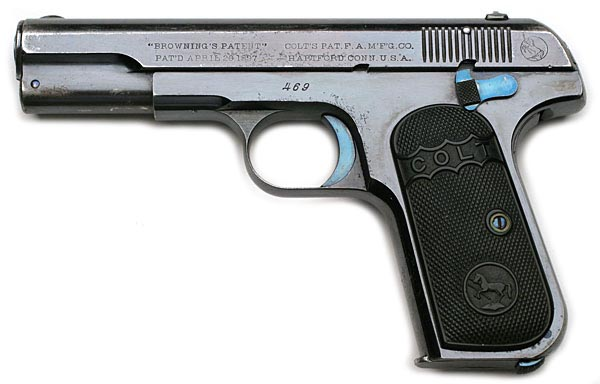gun: (13, 12, 591, 376)
